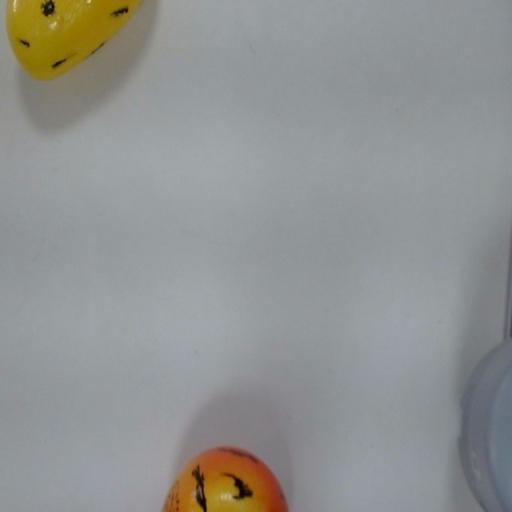Defective: (2, 0, 170, 87), (163, 438, 297, 512)
